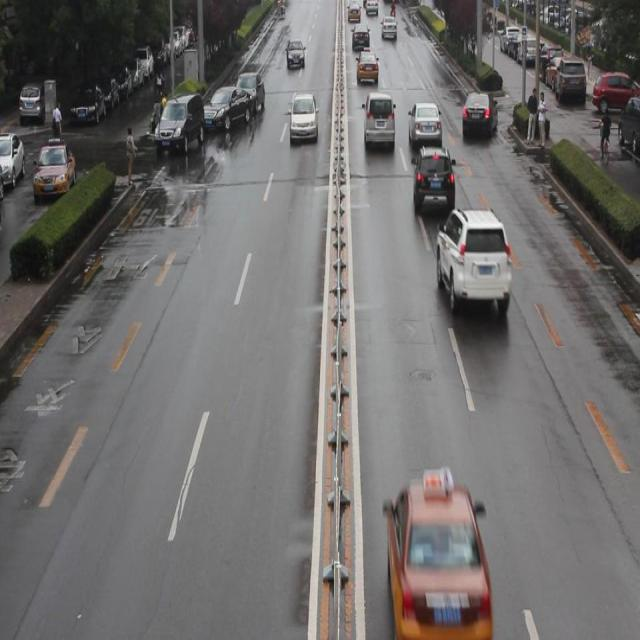car: (382, 473, 487, 630), (434, 203, 507, 317), (412, 142, 452, 214), (200, 84, 252, 131), (408, 101, 442, 154), (462, 90, 497, 140), (288, 94, 316, 144), (233, 75, 266, 116)
truck: (153, 96, 204, 153), (364, 94, 393, 147)
